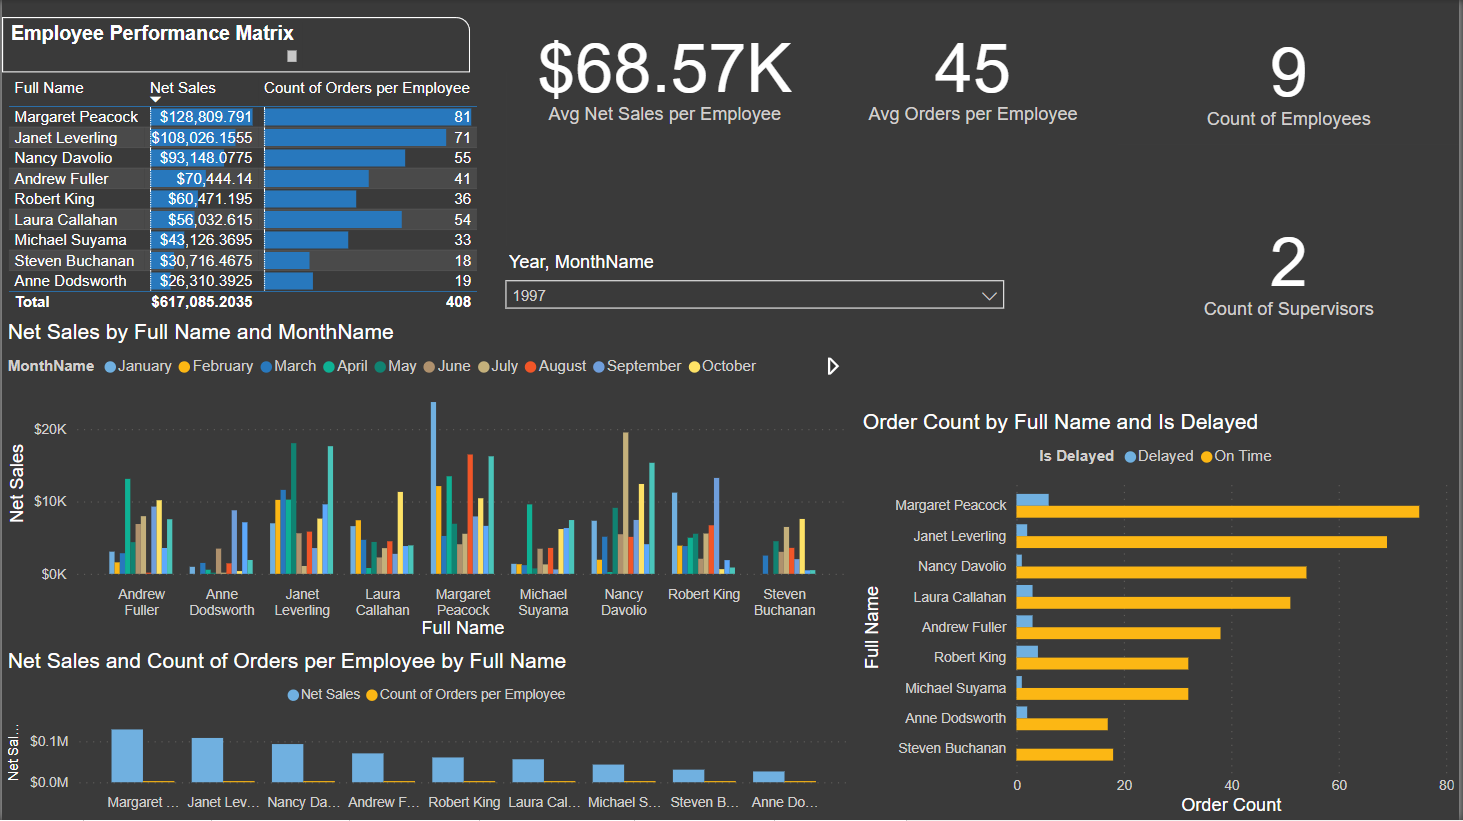

This screenshot's page, from the dashboard's own definition file:
{"tool":"powerbi","page":{"name":"Employee Report :","canvas":[1280,720],"ordinal":5},"visuals":[{"type":"card","fields":{"Values":["Categories.Avg Net Sales per Employee"]},"box":[431.9,0,299.9,126.4],"z":0},{"type":"shape","box":[0,14.7,411,48.7],"z":0,"group":"g1"},{"type":"textbox","title":"Employee Performance Matrix","box":[2.4,19.4,261.1,39.5],"z":1000,"group":"g1"},{"type":"tableEx","fields":{"Values":["Employees.Full Name","Categories.Net Sales","Categories.Count of Orders per Employee"]},"box":[0,63.4,443.2,216.1],"z":1000},{"type":"card","fields":{"Values":["Categories.Avg Orders per Employee"]},"box":[702.3,0,300.4,126.6],"z":2000},{"type":"card","fields":{"Values":["Categories.Count of Employees"]},"box":[980.1,7.8,299.9,118.6],"z":3000},{"type":"slicer","fields":{"Values":["DateDimension_new.Year","DateDimension_new.MonthName"]},"box":[432.2,216.1,457.9,64.4],"z":4000},{"type":"card","fields":{"Values":["Categories.Count of Supervisors"]},"box":[980.1,158.9,299.9,149.9],"z":5000},{"type":"clusteredColumnChart","fields":{"Y":["Categories.Net Sales"],"Category":["Employees.Full Name"],"Series":["DateDimension_new.MonthName"]},"box":[0,280.8,748.5,284.2],"z":6000},{"type":"clusteredColumnChart","fields":{"Category":["Employees.Full Name"],"Y":["Categories.Net Sales","Categories.Count of Orders per Employee"]},"box":[0,570,749,150],"z":7000},{"type":"clusteredBarChart","fields":{"Category":["Employees.Full Name"],"Y":["Categories.Order Count"],"Series":["Orders.Is Delayed"]},"box":[750.8,360.3,529.2,360.3],"z":8000},{"type":"group","id":"g1","title":"Group 1","box":[0,14.7,411,48.7],"z":9000}]}

Visuals, with their boxes in screenshot pixels (x1, y1, x2, y2), scaled from the page's 1280x720 canvas onto the 1463x821 screenshot:
card - Categories.Avg Net Sales per Employee: box=[494, 0, 836, 144]
shape: box=[0, 17, 470, 72]
"Employee Performance Matrix" textbox: box=[3, 22, 301, 67]
tableEx - Employees.Full Name x Categories.Net Sales: box=[0, 72, 507, 319]
card - Categories.Avg Orders per Employee: box=[803, 0, 1146, 144]
card - Categories.Count of Employees: box=[1120, 9, 1462, 144]
slicer - DateDimension_new.Year x DateDimension_new.MonthName: box=[494, 246, 1017, 320]
card - Categories.Count of Supervisors: box=[1120, 181, 1462, 352]
clusteredColumnChart - Categories.Net Sales x Employees.Full Name: box=[0, 320, 856, 644]
clusteredColumnChart - Employees.Full Name x Categories.Net Sales: box=[0, 650, 856, 820]
clusteredBarChart - Employees.Full Name x Categories.Order Count: box=[858, 411, 1462, 820]
"Group 1" group: box=[0, 17, 470, 72]
